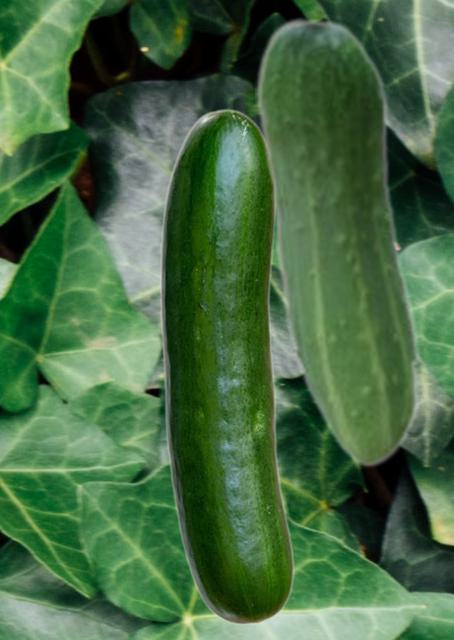cucumber: (255, 15, 421, 467), (159, 108, 293, 624)
